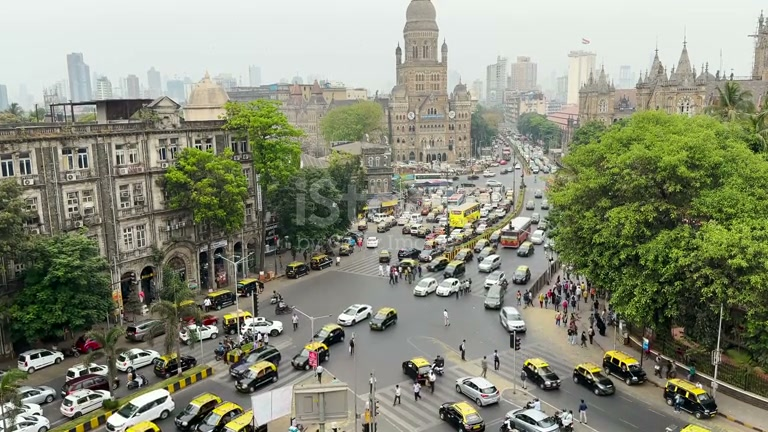car: (104, 387, 176, 431), (230, 350, 281, 394), (499, 402, 564, 432), (194, 400, 250, 432), (174, 392, 221, 430), (438, 400, 486, 432), (573, 362, 616, 397), (520, 356, 562, 391), (59, 389, 108, 419), (456, 375, 500, 407), (114, 347, 162, 373), (17, 348, 64, 373), (14, 386, 57, 406), (499, 305, 526, 334), (337, 304, 372, 326), (313, 322, 345, 346), (369, 306, 398, 331), (483, 282, 504, 311), (413, 276, 438, 297), (477, 253, 501, 274), (436, 277, 460, 297), (512, 265, 531, 285), (516, 242, 534, 257), (364, 234, 379, 250)
pedestrian: (578, 398, 588, 424)
truck: (663, 378, 718, 418)
